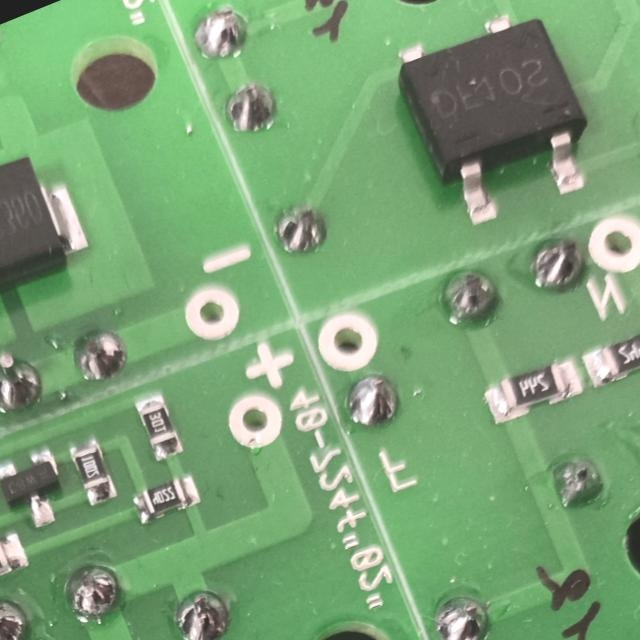chip-resistor: (475, 352, 587, 430), (60, 429, 121, 512), (576, 316, 640, 391), (125, 468, 204, 528), (130, 386, 186, 462)
ic: (379, 0, 609, 240)
transistor: (0, 440, 80, 540)
